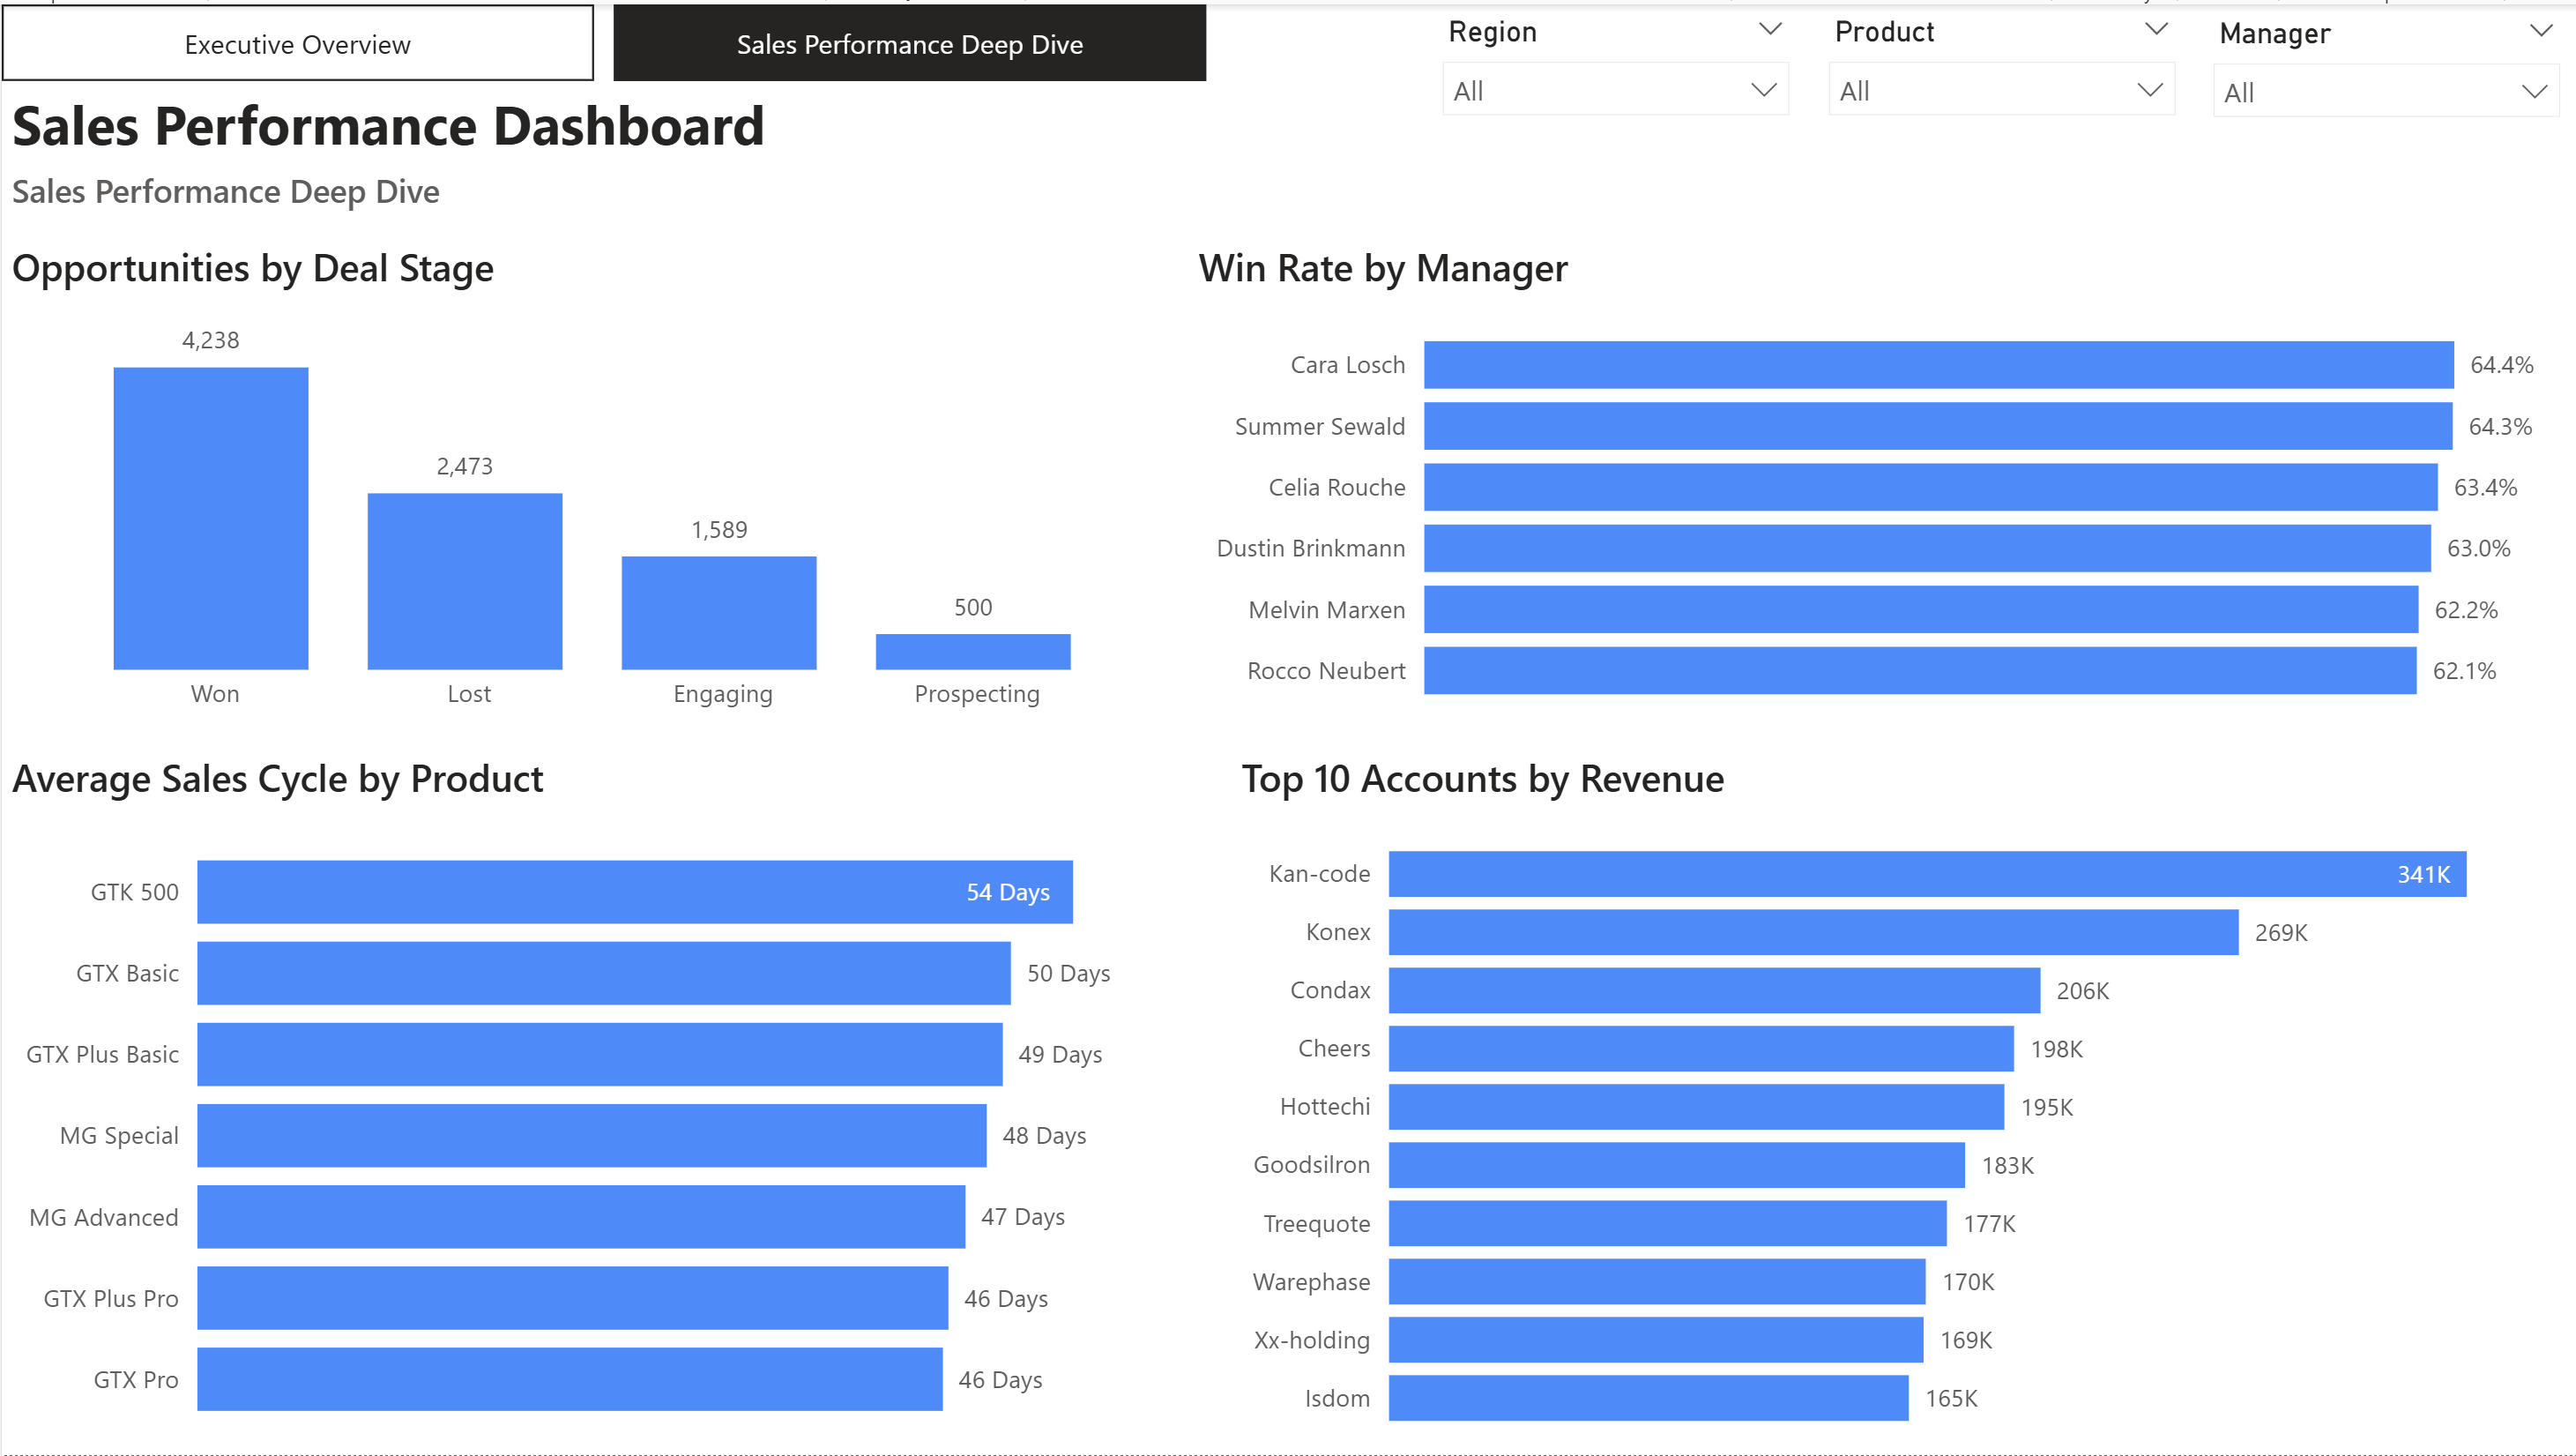

The dashboard page shown, as its layout file describes it:
{"tool":"powerbi","page":{"name":"Sales Performance Deep Dive","canvas":[1280,720],"ordinal":2},"visuals":[{"type":"clusteredColumnChart","title":"Opportunities by Deal Stage","fields":{"Category":["sales_pipeline.deal_stage"],"Y":["_Measures.Total Opportunities"]},"box":[0,116.8,590.2,243.1],"z":0},{"type":"barChart","title":"Win Rate by Manager","fields":{"Category":["sales_teams.manager"],"Y":["_Measures.Win Rate"]},"box":[588.6,116.8,673.4,243.1],"z":1000},{"type":"barChart","title":"Average Sales Cycle by Product","fields":{"Category":["products.product"],"Y":["_Measures.Average Sales Cycle"]},"box":[0,370.5,589.4,349.1],"z":2000},{"type":"clusteredBarChart","title":"Top 10 Accounts by Revenue","fields":{"Category":["accounts.account"],"Y":["_Measures.Total Revenue"]},"box":[610.7,370.5,651.1,349.1],"z":3000},{"type":"slicer","fields":{"Values":["sales_teams.regional_office"]},"box":[705,0,192,78.6],"z":4000},{"type":"slicer","fields":{"Values":["products.product"]},"box":[896.8,0.3,192,78.6],"z":5000},{"type":"slicer","fields":{"Values":["sales_teams.manager"]},"box":[1088,0.5,192,78.1],"z":6000},{"type":"pageNavigator","box":[0,0,599.8,38.4],"z":7000},{"type":"textbox","title":"Sales Performance Dashboard","box":[0,40,588.6,65.6],"z":8000}]}

Visuals, with their boxes in screenshot pixels (x1, y1, x2, y2), scaled from the page's 1280x720 canvas onto the 2576x1456 screenshot:
"Opportunities by Deal Stage" clusteredColumnChart: <bbox>0, 236, 1187, 728</bbox>
"Win Rate by Manager" barChart: <bbox>1185, 236, 2540, 728</bbox>
"Average Sales Cycle by Product" barChart: <bbox>0, 750, 1186, 1455</bbox>
"Top 10 Accounts by Revenue" clusteredBarChart: <bbox>1229, 750, 2539, 1455</bbox>
slicer - sales_teams.regional_office: <bbox>1418, 0, 1805, 159</bbox>
slicer - products.product: <bbox>1805, 1, 2192, 160</bbox>
slicer - sales_teams.manager: <bbox>2190, 1, 2575, 159</bbox>
pageNavigator: <bbox>0, 0, 1207, 78</bbox>
"Sales Performance Dashboard" textbox: <bbox>0, 81, 1185, 213</bbox>
